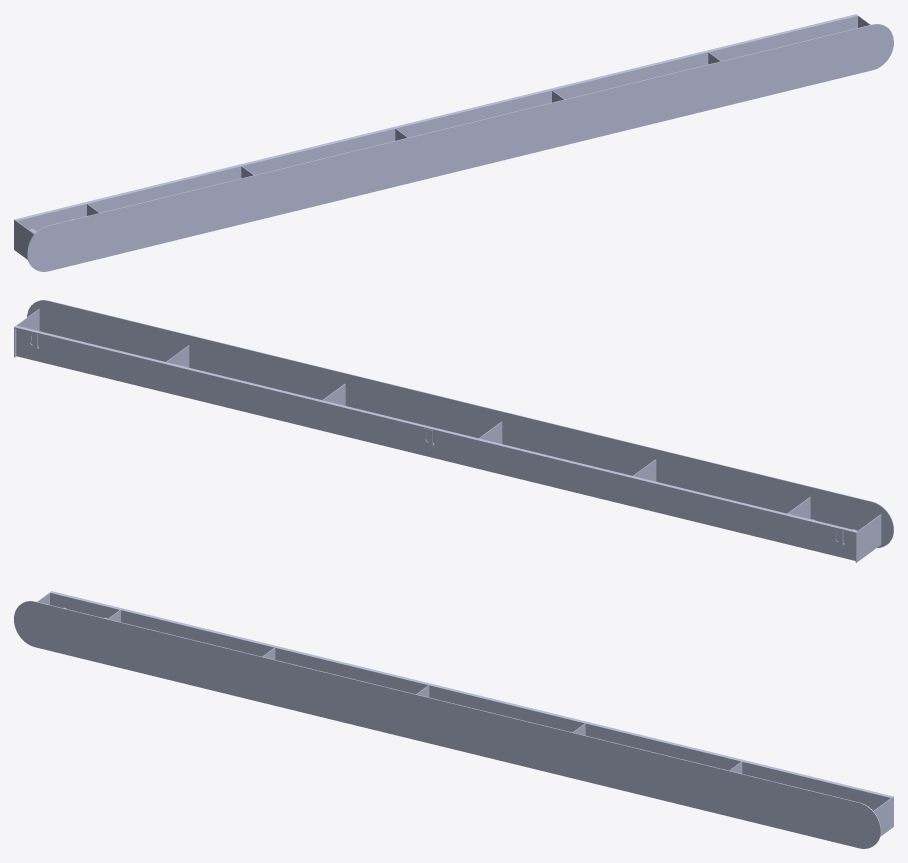
Rendered from round-patron.0568a9007a.glb.
3 renders of one model, top to bottom at view 1: azimuth 30°, elevation 25°; view 2: azimuth 150°, elevation 25°; view 3: azimuth 330°, elevation 25°, orthographic.
Parts seen in each view (by area): view 1: NAUO1; view 2: NAUO1; view 3: NAUO1.
Part boxes in pixels (x1,y1,x2,y2): NAUO1: (14, 14, 893, 271); NAUO1: (14, 300, 893, 562); NAUO1: (14, 591, 893, 848).
Bounding box in the file's own units: 1.8 × 0.0901 × 0.0929.
